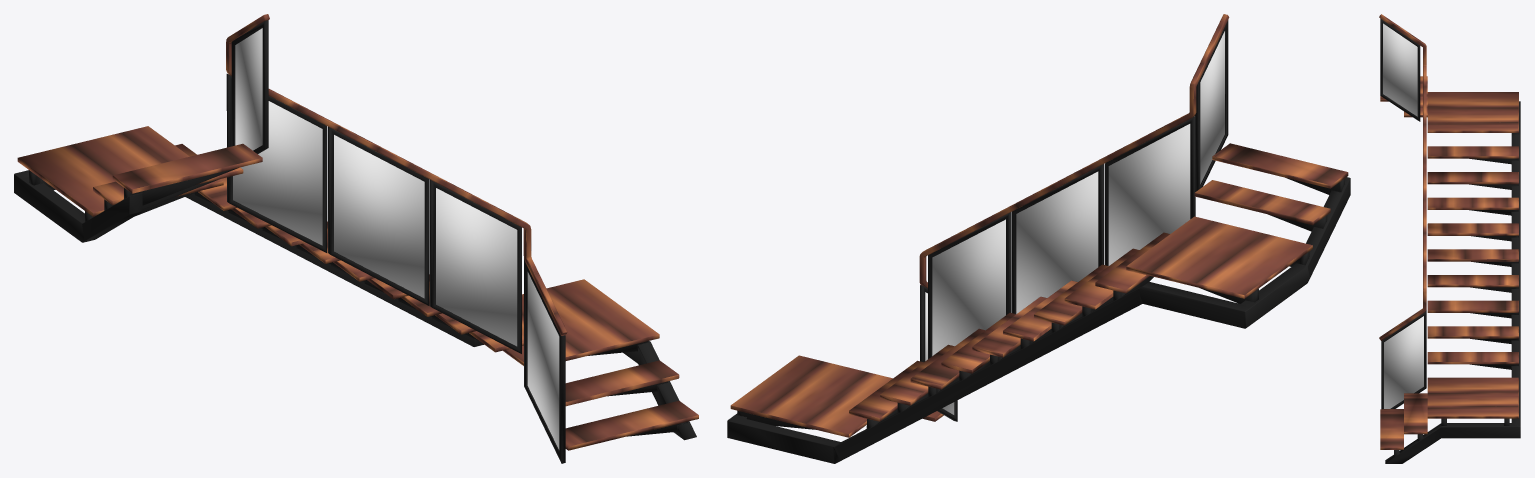
The model's file is Stair1.fbx.
3 views of the same model, side by side, from view 1: azimuth 30°, elevation 25°; view 2: azimuth 150°, elevation 25°; view 3: azimuth 270°, elevation 25° (orthographic). The views are drawn at different scales.
Parts seen in each view (by area): view 1: Stairs 42-27_7, Stairs 42-27, Stairs 42-27_4, Stairs 42-27_5, Stairs 42-27_3, Stairs 42-27_6, Stairs 42-27_2; view 2: Stairs 42-27_7, Stairs 42-27, Stairs 42-27_4, Stairs 42-27_3, Stairs 42-27_5, Stairs 42-27_2; view 3: Stairs 42-27_7, Stairs 42-27, Stairs 42-27_6, Stairs 42-27_2.
Part boxes in pixels (x1,y1,x2,y2): Stairs 42-27_7: (17, 14, 698, 450); Stairs 42-27: (14, 20, 696, 463); Stairs 42-27_4: (334, 135, 424, 298); Stairs 42-27_5: (436, 188, 517, 346); Stairs 42-27_3: (233, 101, 322, 245); Stairs 42-27_6: (527, 272, 559, 449); Stairs 42-27_2: (235, 28, 262, 150); Stairs 42-27_7: (730, 14, 1348, 437); Stairs 42-27: (727, 20, 1350, 463); Stairs 42-27_4: (1016, 171, 1098, 313); Stairs 42-27_3: (1108, 124, 1190, 265); Stairs 42-27_5: (932, 219, 1005, 355); Stairs 42-27_2: (1200, 31, 1224, 184); Stairs 42-27_7: (1379, 14, 1518, 449); Stairs 42-27: (1380, 18, 1520, 463); Stairs 42-27_6: (1384, 316, 1423, 408); Stairs 42-27_2: (1383, 23, 1417, 116).
Bounding box in the file's own units: 438 × 389 × 155.
